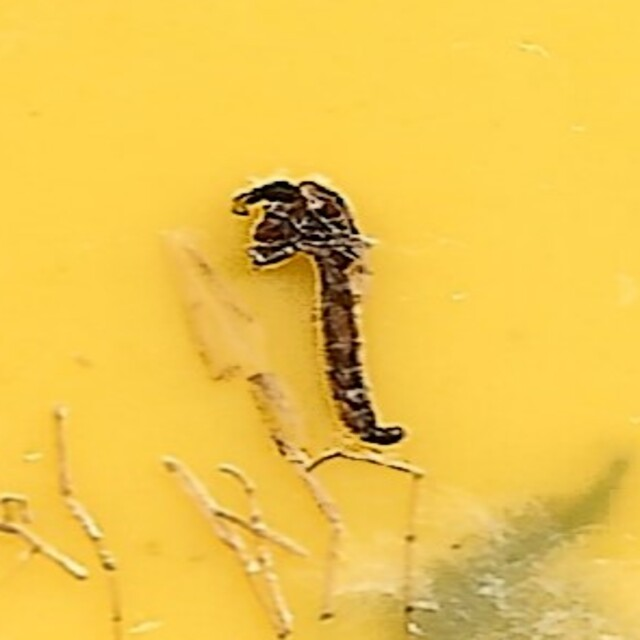Nematocera: (217, 171, 423, 469)
